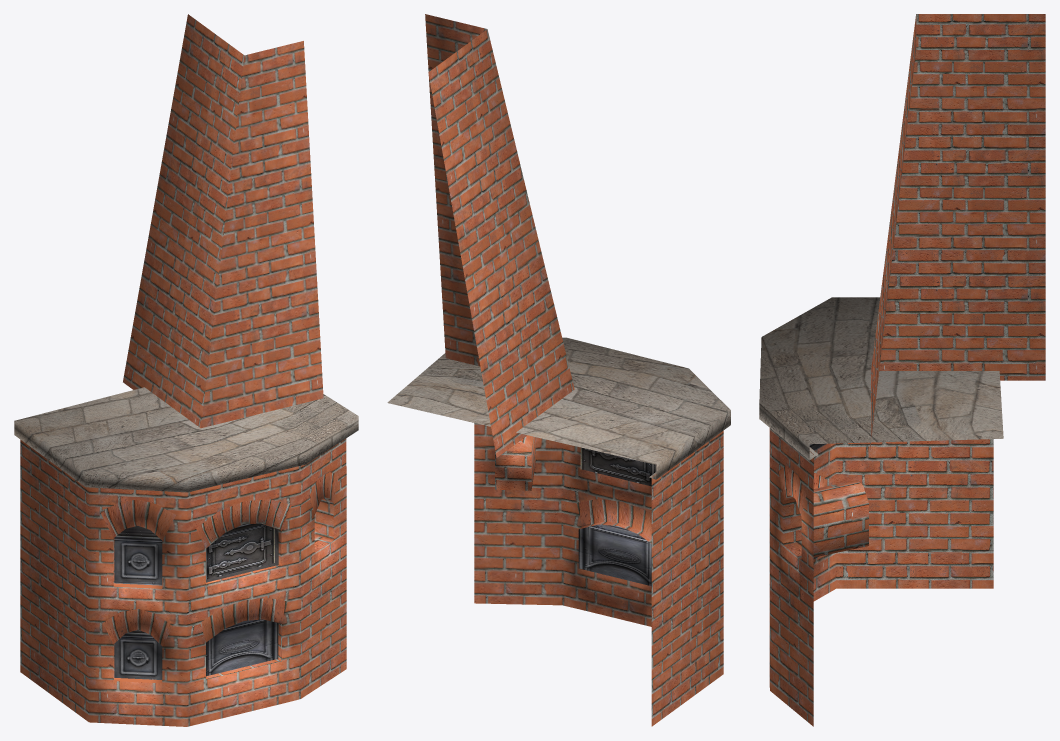
File: PizzaOven.fbx
The picture shows the model from 3 angles, left to right: view 1: azimuth 30°, elevation 25°; view 2: azimuth 150°, elevation 25°; view 3: azimuth 270°, elevation 25°; orthographic projection. The views are drawn at different scales.
Visible parts, largest first — view 1: PizzaOven; view 2: PizzaOven; view 3: PizzaOven.
Boxes of the visible parts, x1=… form: PizzaOven: x1=14, y1=14, x2=358, y2=726; PizzaOven: x1=387, y1=14, x2=730, y2=726; PizzaOven: x1=759, y1=14, x2=1045, y2=726.
Size of the model in its own units: 231 by 499 by 190.
